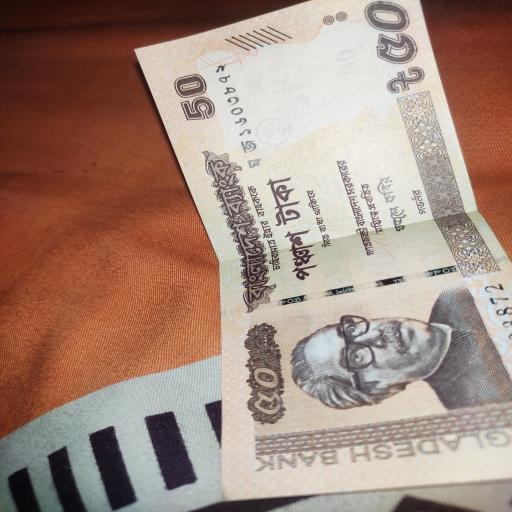50taka: (137, 0, 512, 495)
